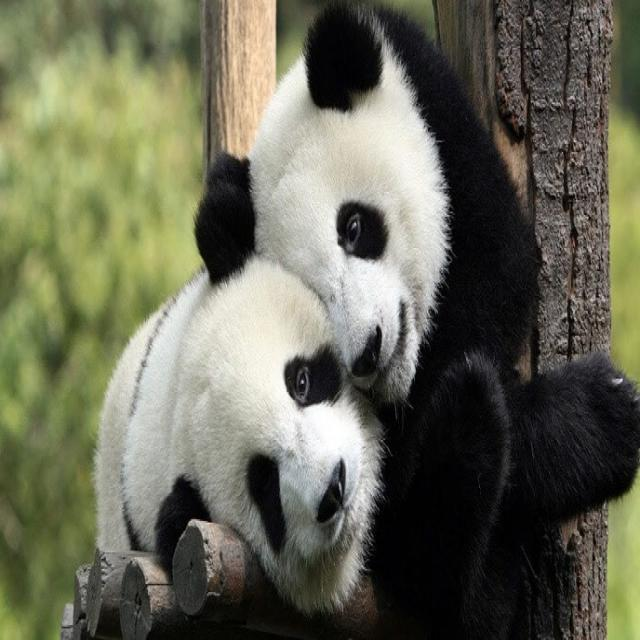Herbivorous: (196, 1, 640, 640), (95, 188, 384, 612)
